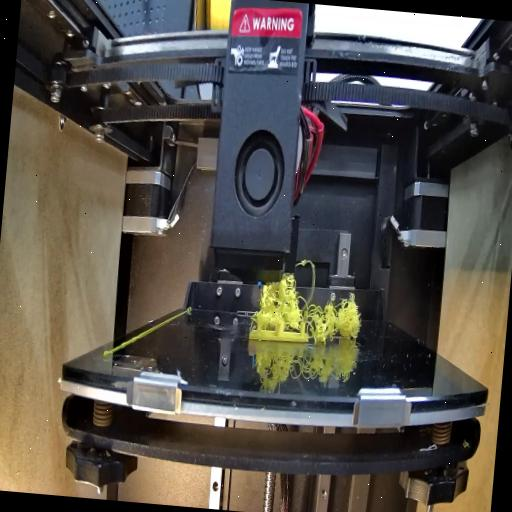spaghetti: (251, 258, 369, 344)
